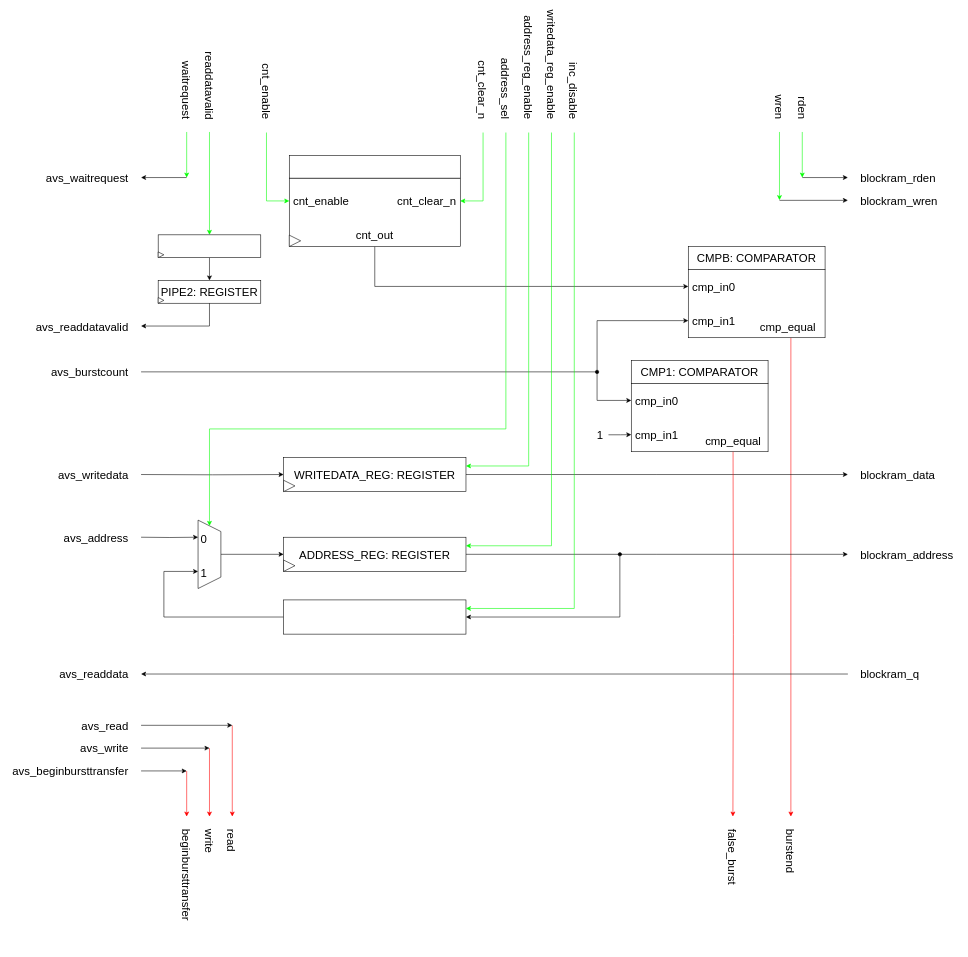
Image size: 968x957. Some labels were removed from this diagram. Here are the shapes that lost their labels. From the top down, the centre of each, then its label:
At (374,166): "BURST_CNT: COUNTER_11BIT".
At (209,246): "PIPE1: REGISTER".
At (374,616): "ADDRESS_INC: INCREMENTER".
